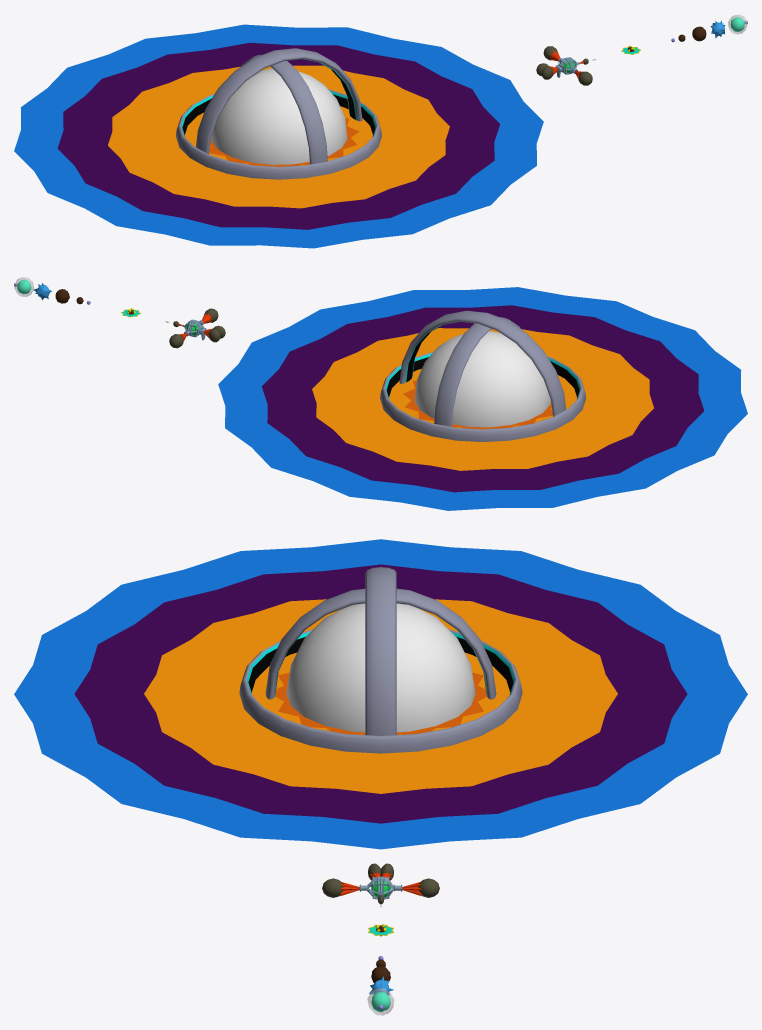
File: SpaceValues_7.fbx
3 renders of one model, top to bottom at view 1: azimuth 30°, elevation 25°; view 2: azimuth 150°, elevation 25°; view 3: azimuth 270°, elevation 25°, orthographic. The views are drawn at different scales.
Visible parts, largest first — view 1: Event Horizon.002, Event Horizon.001, Event Horizon, Sun, Torus.001, Torus.002, Torus.003, Transition Region; view 2: Event Horizon.002, Event Horizon.001, Event Horizon, Sun, Torus.001, Torus.002, Torus.003, Transition Region; view 3: Event Horizon.002, Event Horizon.001, Event Horizon, Sun, Torus.001, Torus.002, Torus.003, Transition Region.
Boxes of the visible parts, x1,y1,x2,y2 form: Event Horizon.002: [14, 24, 543, 248]; Event Horizon.001: [57, 42, 499, 229]; Event Horizon: [108, 65, 449, 208]; Sun: [211, 68, 347, 164]; Torus.001: [176, 89, 381, 179]; Torus.002: [196, 48, 362, 154]; Torus.003: [241, 54, 327, 164]; Transition Region: [209, 118, 358, 166]; Event Horizon.002: [218, 287, 747, 510]; Event Horizon.001: [262, 305, 704, 492]; Event Horizon: [312, 328, 653, 470]; Sun: [414, 331, 550, 427]; Torus.001: [380, 351, 585, 441]; Torus.002: [399, 310, 566, 416]; Torus.003: [434, 317, 521, 426]; Transition Region: [403, 380, 552, 429]; Event Horizon.002: [14, 539, 747, 849]; Event Horizon.001: [74, 564, 687, 823]; Event Horizon: [144, 599, 617, 793]; Sun: [286, 603, 475, 732]; Torus.001: [239, 629, 522, 753]; Torus.002: [365, 567, 396, 735]; Torus.003: [265, 588, 496, 699]; Transition Region: [275, 672, 486, 734].
Size of the model in its own units: 10955 by 2520 by 7240.
